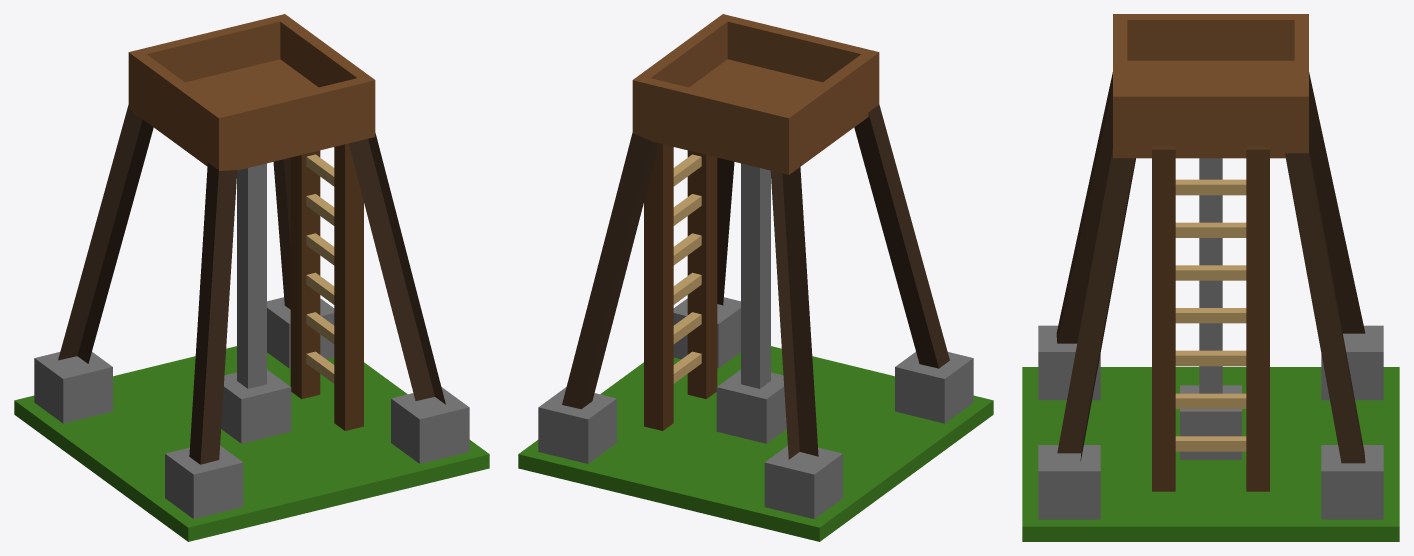
The model's file is lvl7.glb.
The picture shows the model from 3 angles, left to right: view 1: azimuth 30°, elevation 25°; view 2: azimuth 150°, elevation 25°; view 3: azimuth 270°, elevation 25°; orthographic projection. The views are drawn at different scales.
Visible parts, largest first — view 1: Plane.006; view 2: Plane.006; view 3: Plane.006.
Boxes of the visible parts, left/top/right/bottom form: Plane.006: left=14, top=14, right=489, bottom=541; Plane.006: left=518, top=14, right=993, bottom=541; Plane.006: left=1022, top=14, right=1399, bottom=541.
Bounding box in the file's own units: 4 × 4.76 × 4.
